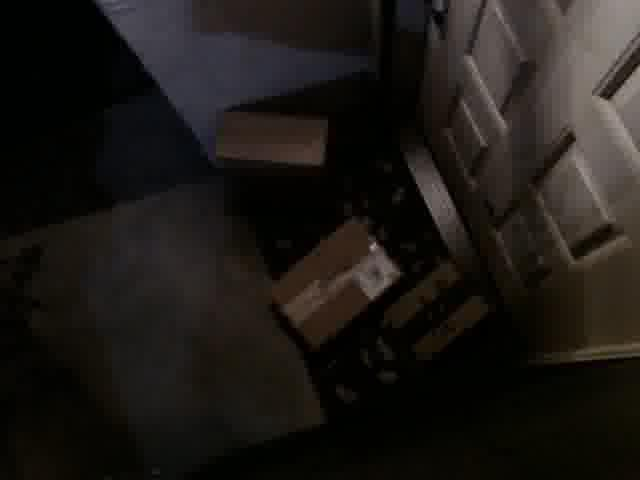box: (267, 219, 405, 349), (379, 260, 496, 368), (214, 110, 329, 173)
